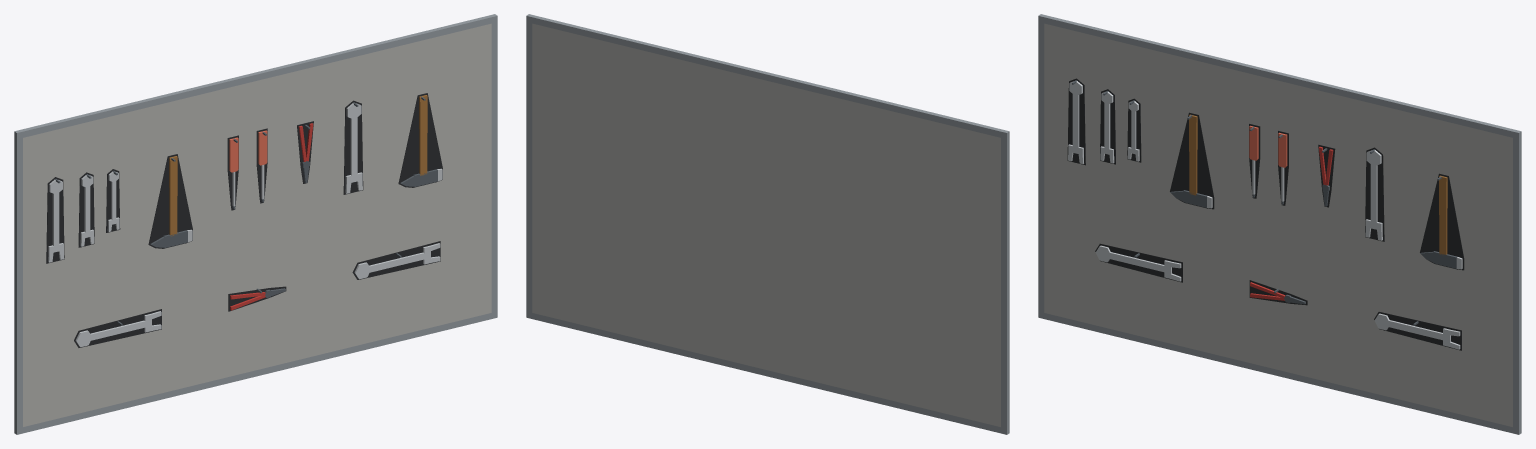
Rendered from SM_Workshop_Pegboard_Tools_01.fbx.
3 views of the same model, side by side, from view 1: azimuth 30°, elevation 25°; view 2: azimuth 150°, elevation 25°; view 3: azimuth 330°, elevation 25° (orthographic).
Parts seen in each view (by area): view 1: SM_Workshop_Pegboard_Tools_01; view 2: SM_Workshop_Pegboard_Tools_01; view 3: SM_Workshop_Pegboard_Tools_01.
Boxes of the visible parts, x1,y1,x2,y2 form: SM_Workshop_Pegboard_Tools_01: (14, 14, 497, 434); SM_Workshop_Pegboard_Tools_01: (526, 14, 1009, 434); SM_Workshop_Pegboard_Tools_01: (1038, 14, 1521, 434).
Size of what is drawn, in the model's own units: 2 by 1.2 by 0.048.
Materials: 1 (1 with a texture image).
